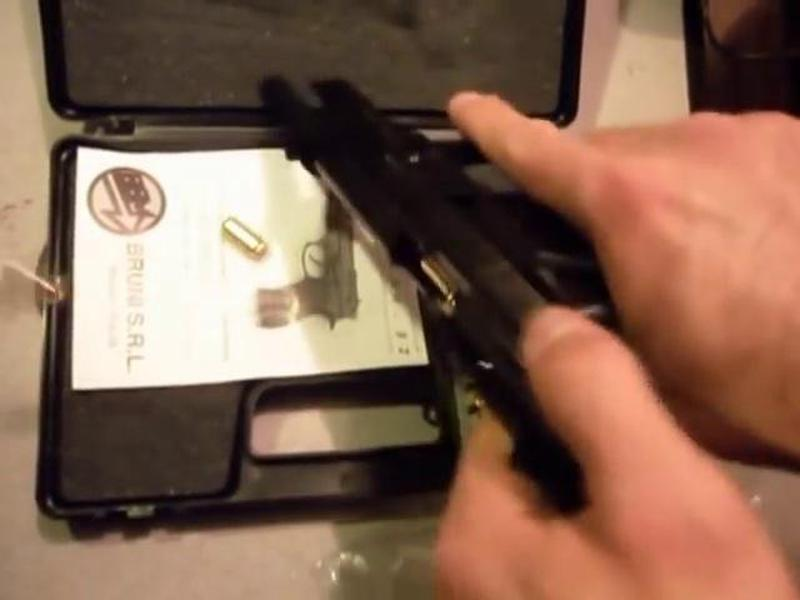Pistola: (234, 58, 677, 508)
